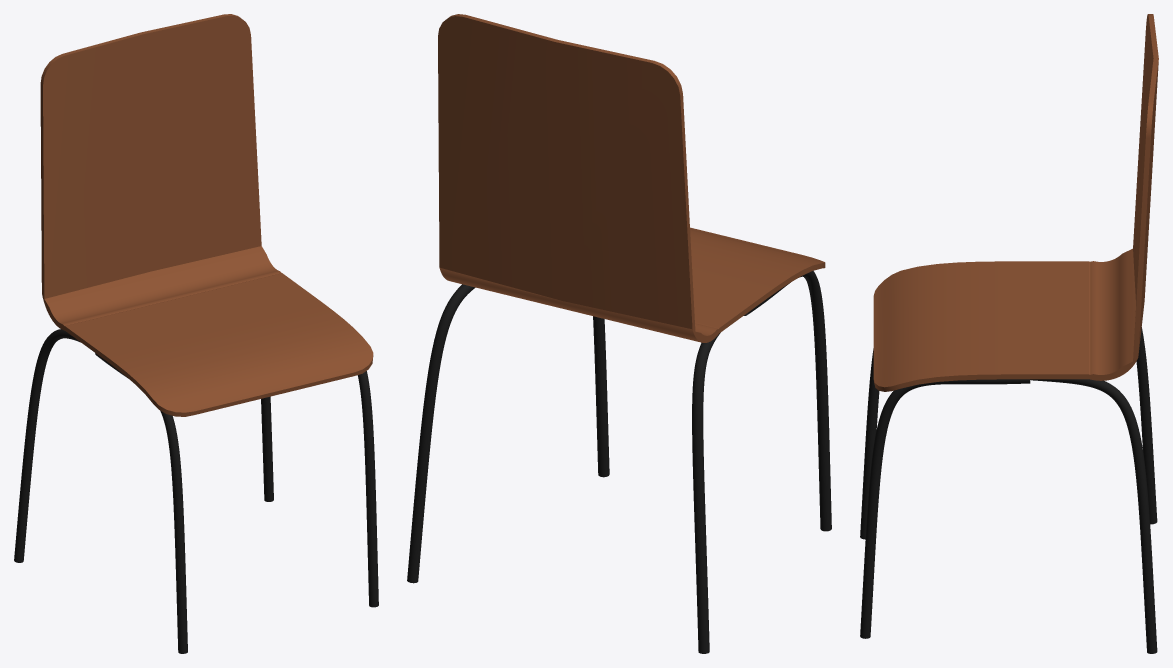
File: cadeira.fbx
The picture shows the model from 3 angles, left to right: view 1: azimuth 30°, elevation 25°; view 2: azimuth 150°, elevation 25°; view 3: azimuth 270°, elevation 25°; orthographic projection. The views are drawn at different scales.
Visible parts, largest first — view 1: Cube.235; view 2: Cube.235; view 3: Cube.235.
Boxes of the visible parts, x1,y1,x2,y2 form: Cube.235: [14, 14, 378, 653]; Cube.235: [407, 14, 831, 653]; Cube.235: [860, 14, 1158, 653].
Size of the model in its own units: 64.72 by 119 by 60.73.
